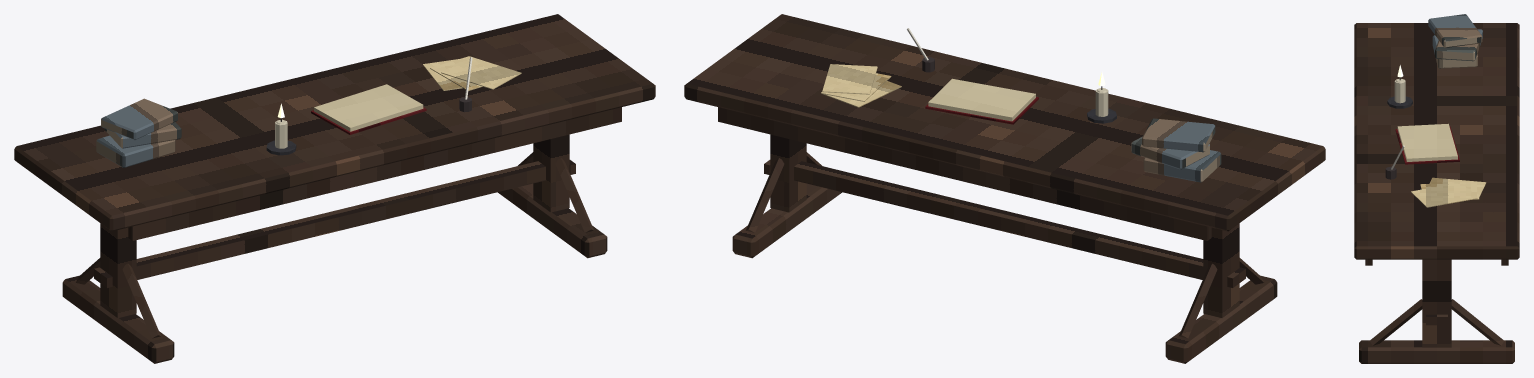
File: long_table.glb
3 renders of one model, left to right at view 1: azimuth 30°, elevation 25°; view 2: azimuth 150°, elevation 25°; view 3: azimuth 270°, elevation 25°, orthographic. The views are drawn at different scales.
Parts seen in each view (by area): view 1: body; view 2: body; view 3: body.
Boxes of the visible parts, x1,y1,x2,y2 form: body: (14,14,655,363); body: (684,14,1325,363); body: (1354,14,1519,363).
Size of the model in its own units: 2.9 by 1.05 by 0.9.
Materials: 11 (8 with a texture image).
